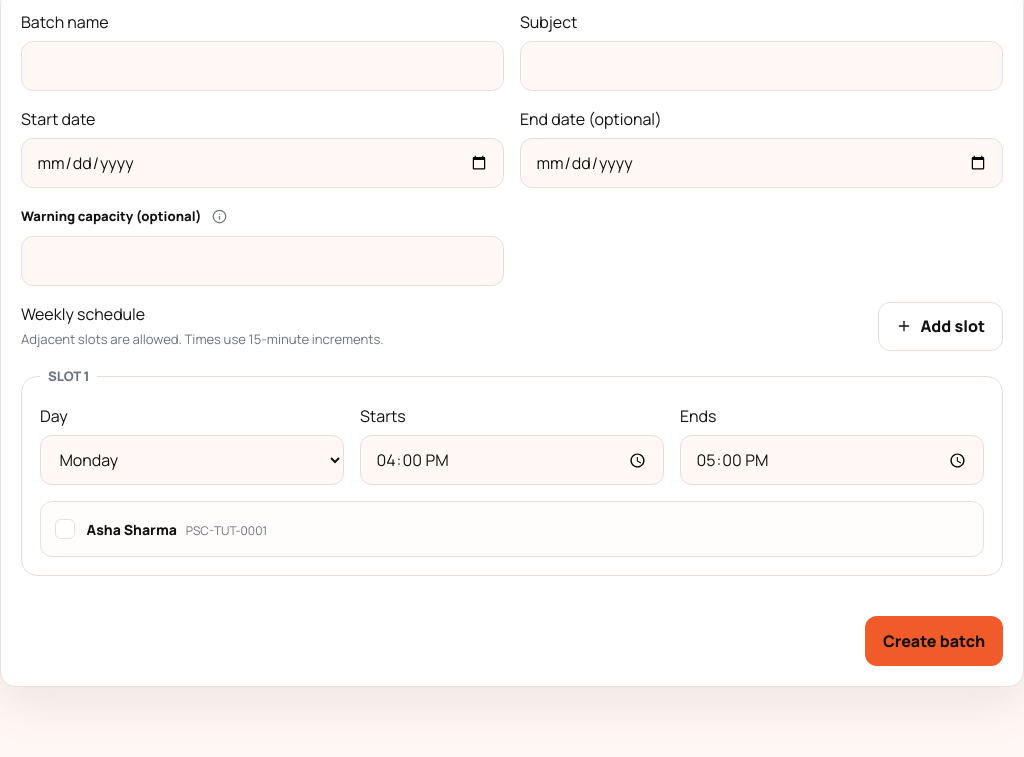
Test case: BatchForm › exposes capacity guidance as a tooltip and supports slot changes
The image size is (1024, 757).
Step 1. Click the button "Add slot" → x=940, y=326, box [878,302,1003,351]
(page scrolled)
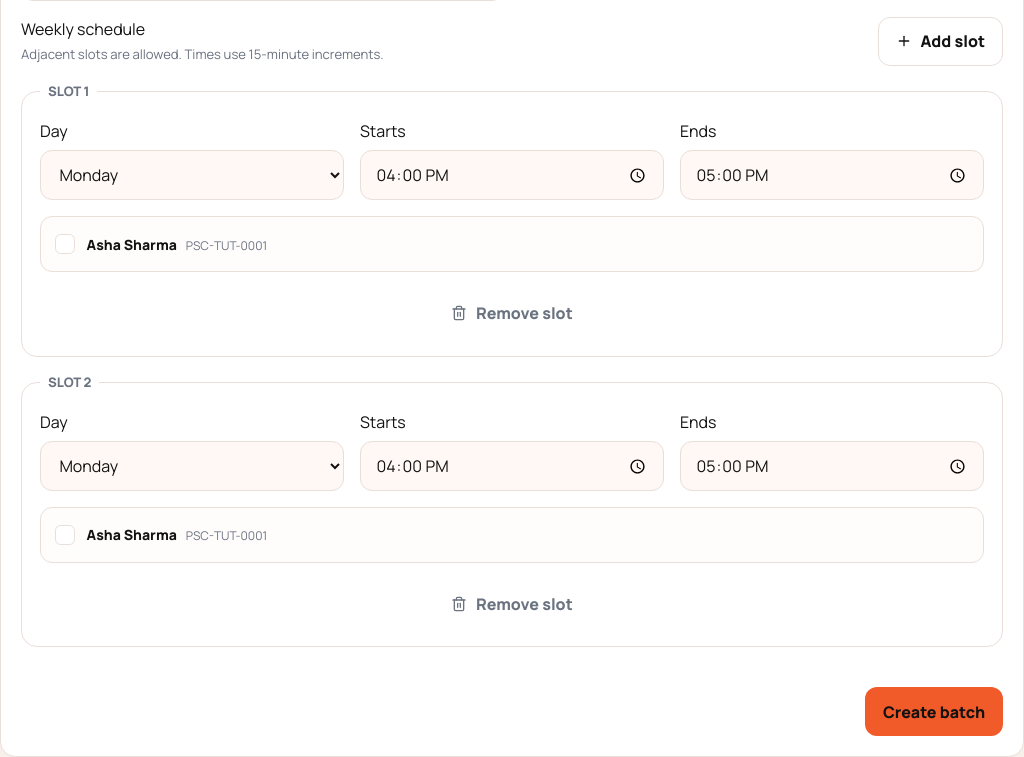
Result: the text "Slot 2" is shown at [48,372,92,390]
Step 2. Click the 2nd button "Remove slot" → x=512, y=604, box [40,579,984,628]
(page scrolled)
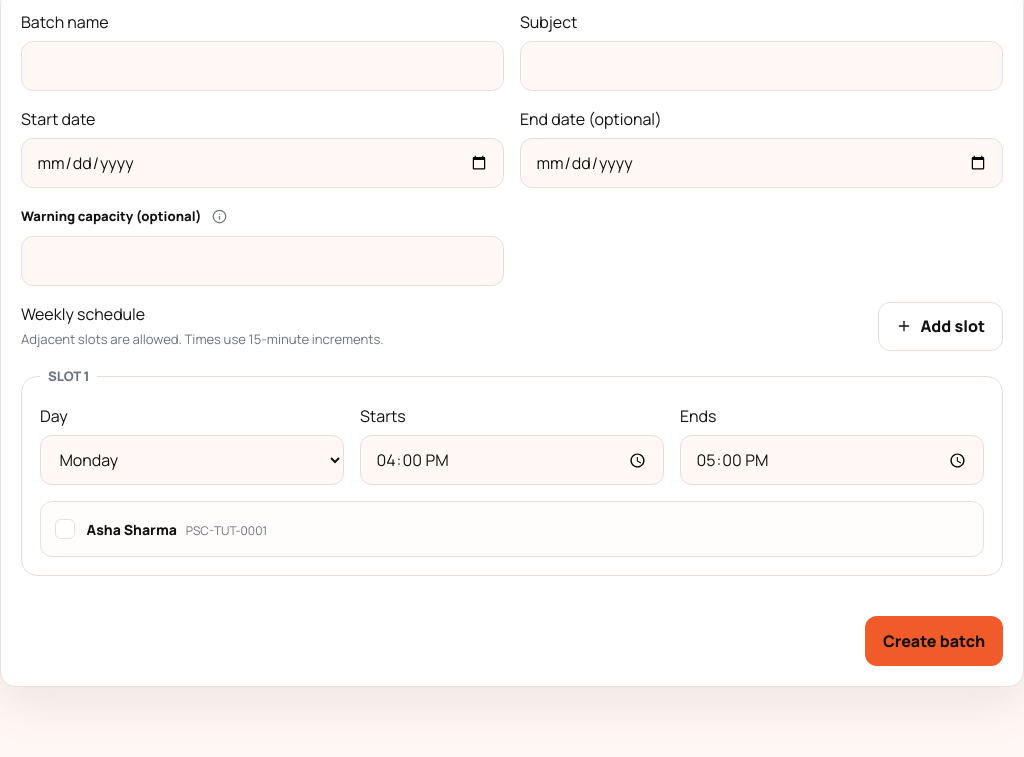
Result: the text "Slot 2" is gone
